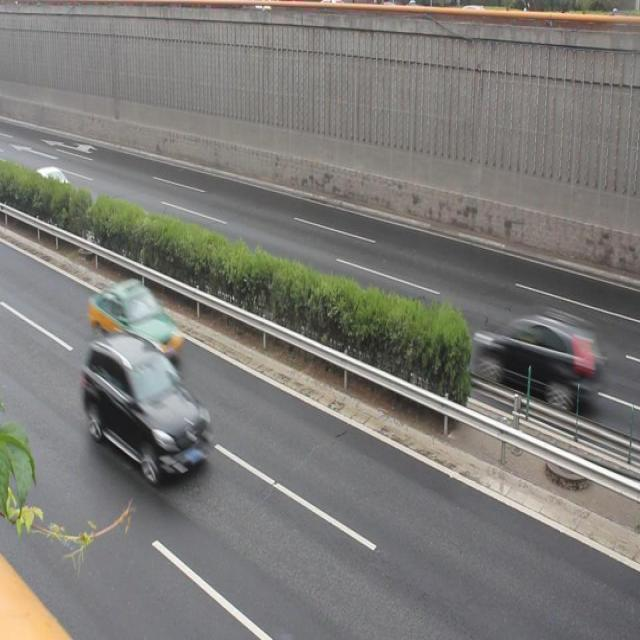car: (82, 330, 210, 479), (473, 308, 598, 410), (89, 278, 182, 360), (26, 168, 71, 210)
